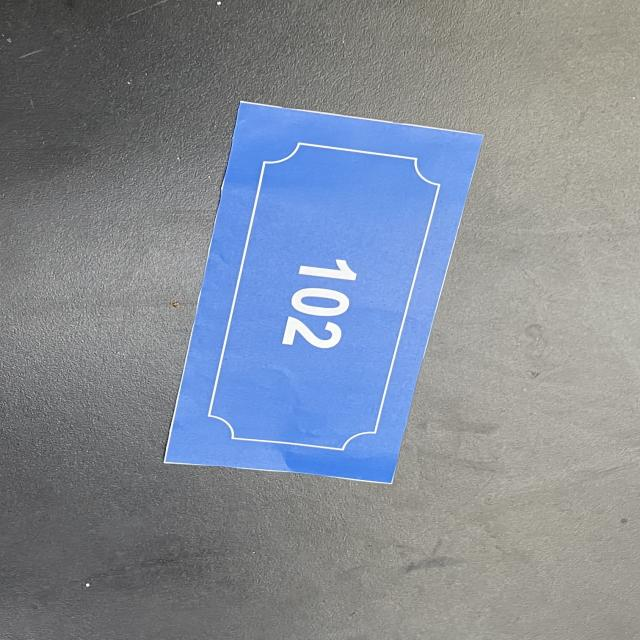Card: (142, 93, 508, 502)
